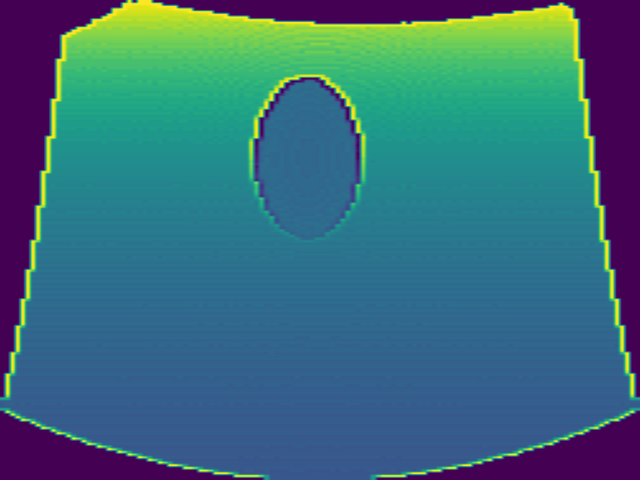sphere: (248, 75, 367, 241)
